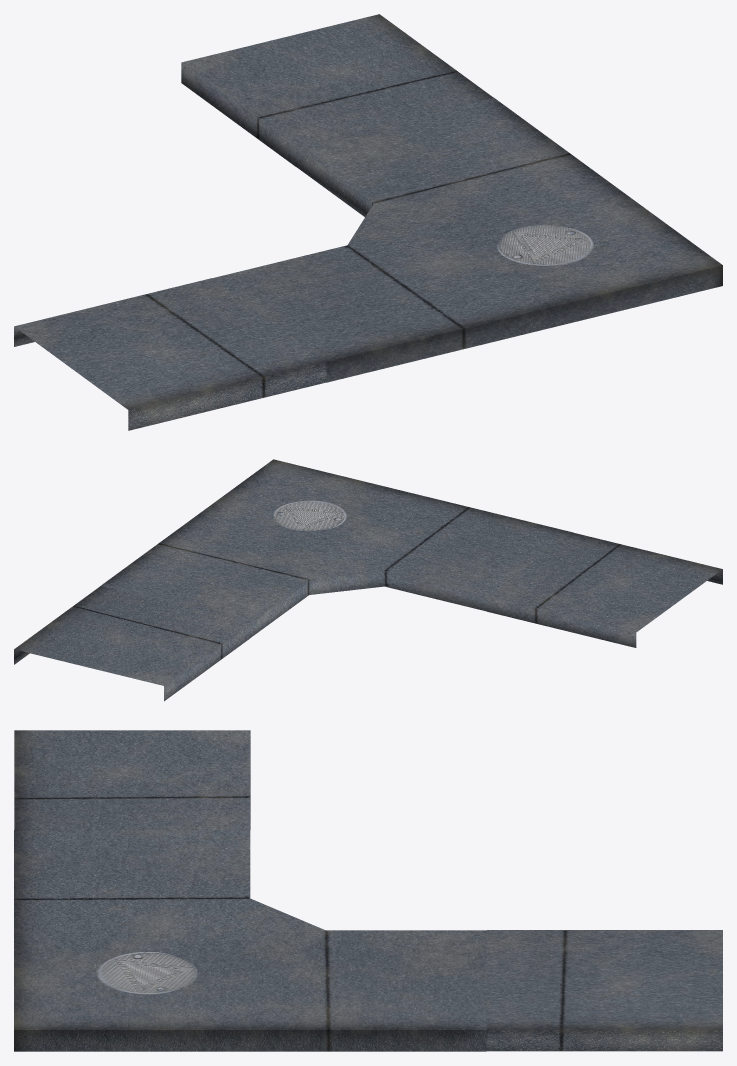
File: cross walk2.fbx
3 renders of one model, top to bottom at view 1: azimuth 30°, elevation 25°; view 2: azimuth 150°, elevation 25°; view 3: azimuth 270°, elevation 25°, orthographic. The views are drawn at different scales.
Visible parts, largest first — view 1: Cube.002, Plane.003, Plane.002; view 2: Cube.002, Plane.003, Plane.002; view 3: Cube.002, Plane.002, Plane.003.
Boxes of the visible parts, x1,y1,x2,y2 form: Cube.002: [212, 98, 722, 382]; Plane.003: [14, 278, 326, 430]; Plane.002: [181, 14, 493, 166]; Cube.002: [101, 459, 572, 637]; Plane.003: [486, 532, 722, 647]; Plane.002: [14, 586, 250, 701]; Cube.002: [14, 830, 486, 1051]; Plane.002: [486, 930, 722, 1051]; Plane.003: [14, 730, 250, 830].
Size of the model in its own units: 600 by 20 by 600.
